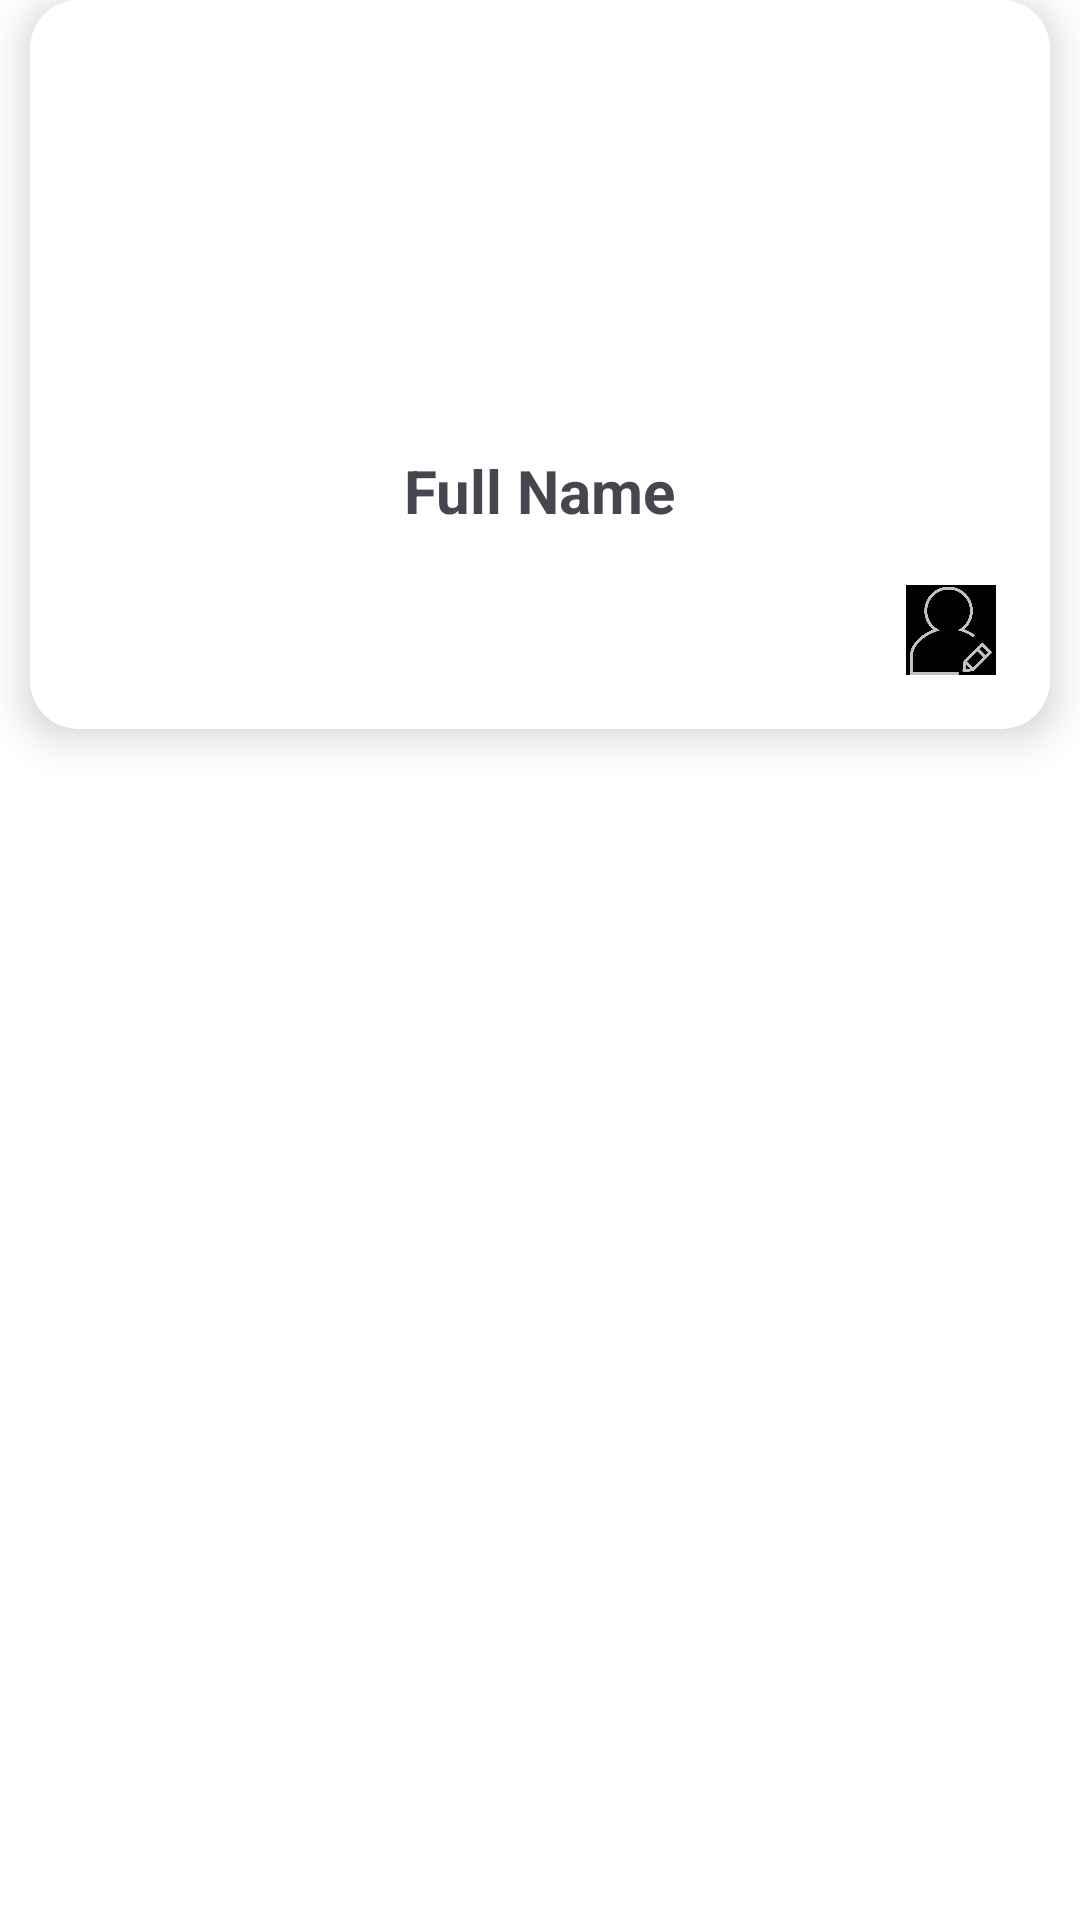

Point at icon controls on the screen. Image size 1080×1920, points as (x=x, y=y).
edit profile: (x=951, y=630)
